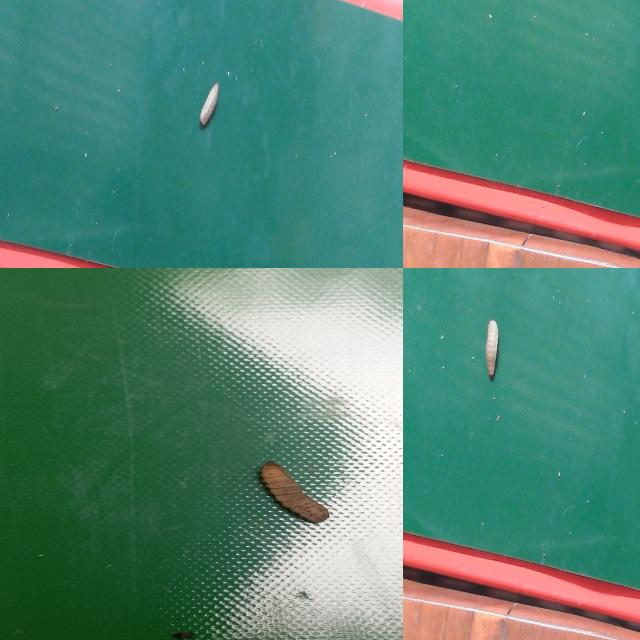Maggot: (257, 462, 330, 525), (197, 83, 223, 130), (482, 320, 502, 381)
